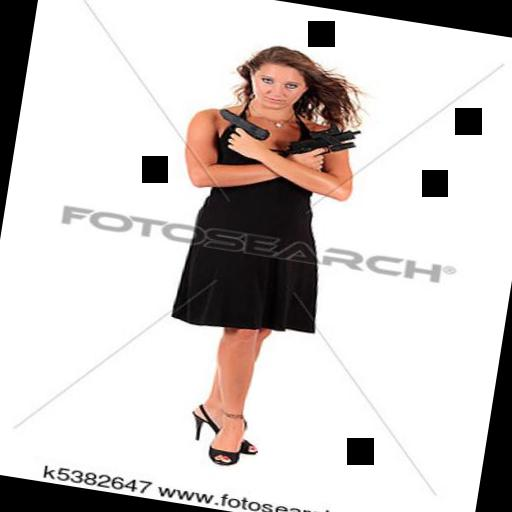Handgun: (279, 114, 363, 172), (210, 105, 274, 143)
